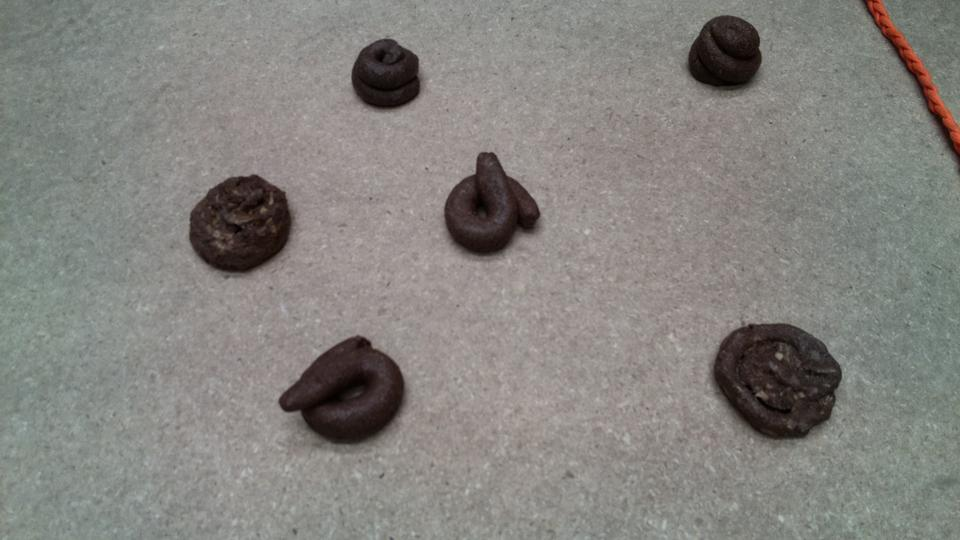poop: (708, 318, 845, 446), (275, 330, 411, 449), (186, 171, 299, 276), (441, 148, 545, 261), (684, 12, 773, 94), (347, 34, 427, 113)
rope: (860, 1, 959, 165)
